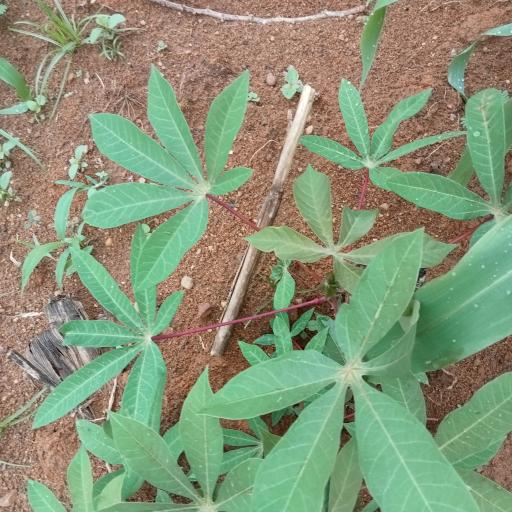Cassava_Mosaic: (239, 241, 468, 512), (90, 64, 257, 297)
